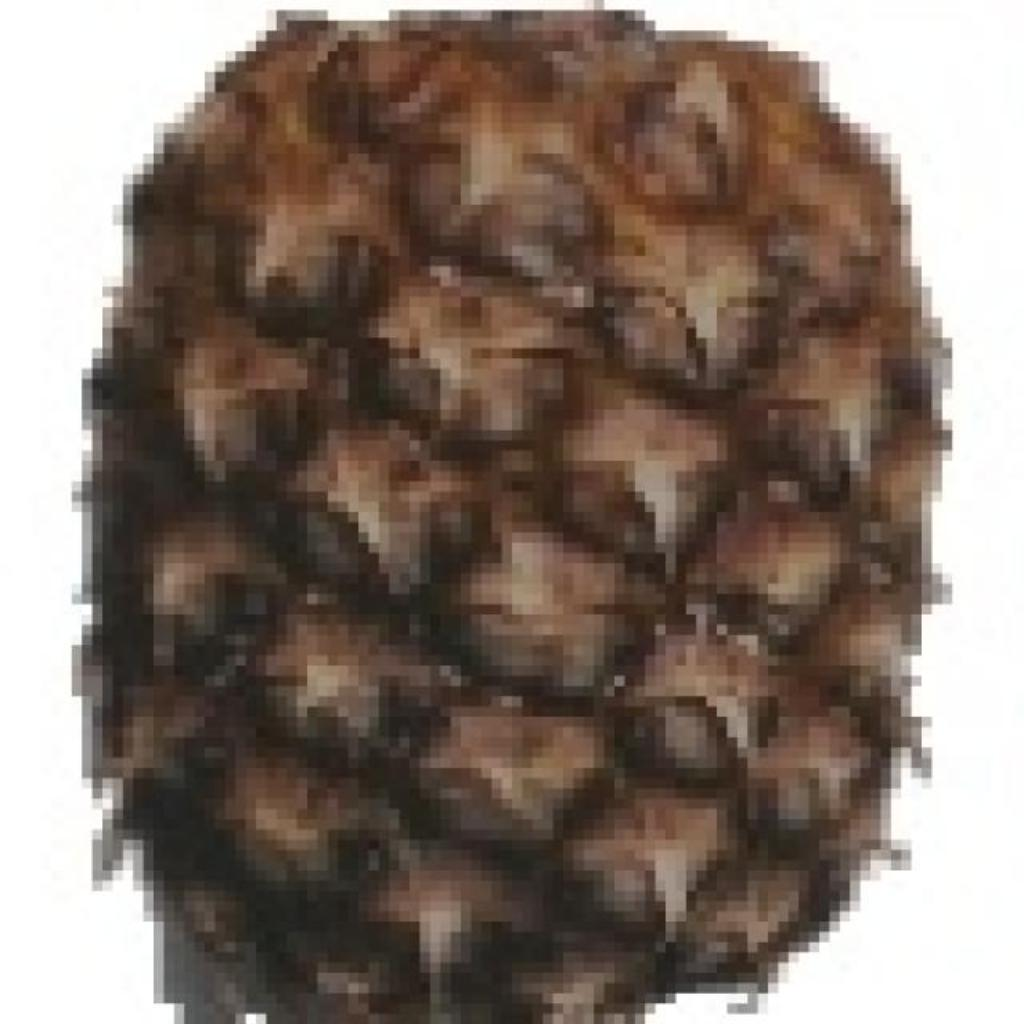pineapple: (102, 0, 952, 1004)
